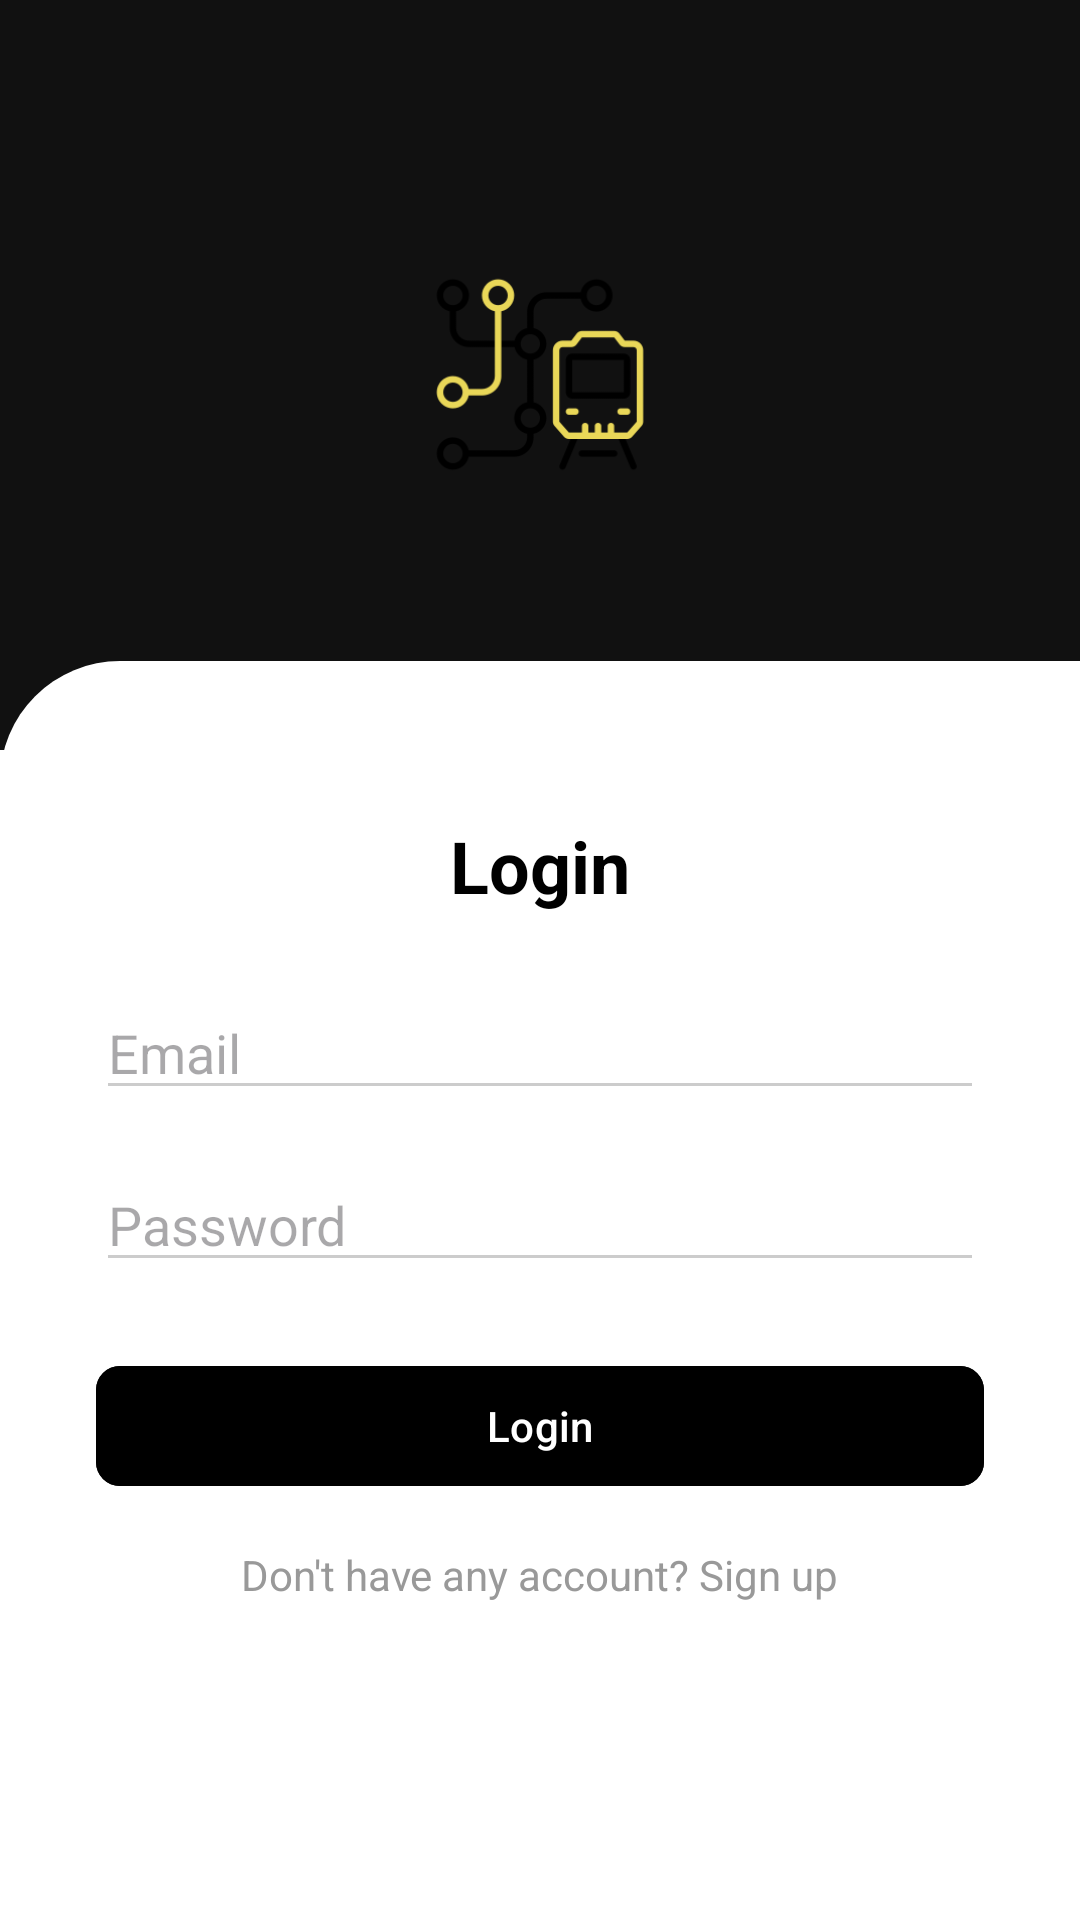

Screen size 1080px x 1920px. Icon name, then its box in pixels as [x1, y1, x2, y2]:
subway: [436, 279, 644, 439]
